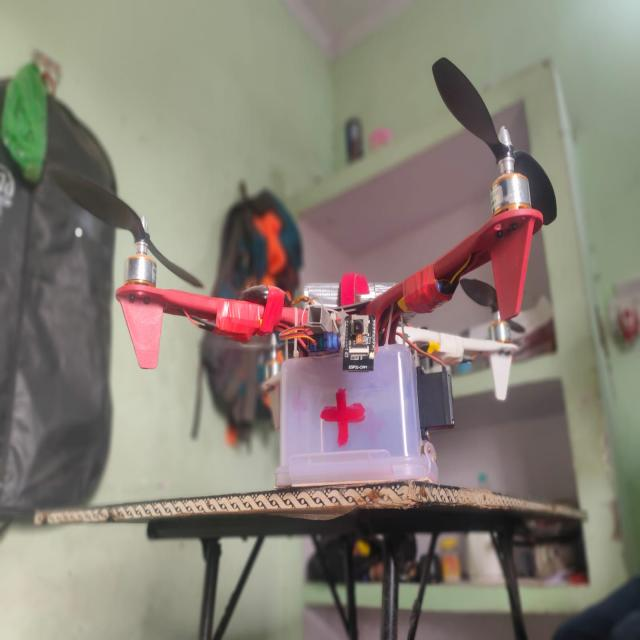Drone THREAT: (18, 87, 598, 517)
